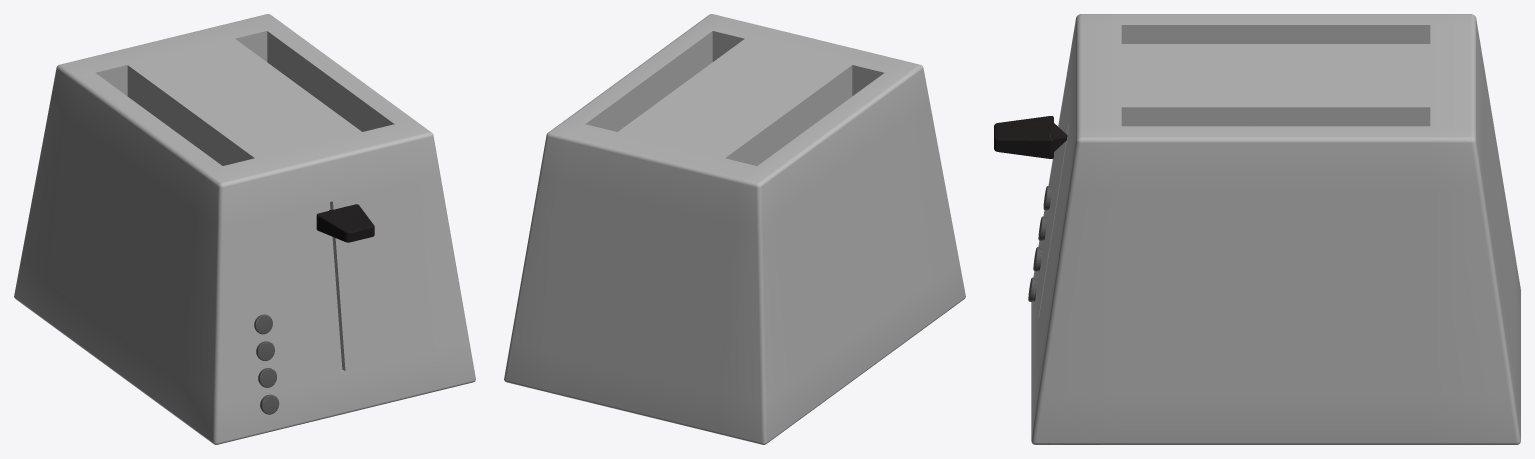
Rendered from Toaster.001.fbx.
3 views of the same model, side by side, from view 1: azimuth 30°, elevation 25°; view 2: azimuth 150°, elevation 25°; view 3: azimuth 270°, elevation 25° (orthographic). The views are drawn at different scales.
Visible parts, largest first — view 1: Toaster.001_Baked; view 2: Toaster.001_Baked; view 3: Toaster.001_Baked.
Part boxes in pixels (x1=…): Toaster.001_Baked: x1=14, y1=14, x2=475, y2=444; Toaster.001_Baked: x1=504, y1=14, x2=965, y2=444; Toaster.001_Baked: x1=994, y1=14, x2=1520, y2=444.
Size of the model in its own units: 29.92 by 26.37 by 42.94.
Materials: 1 (1 with a texture image).
